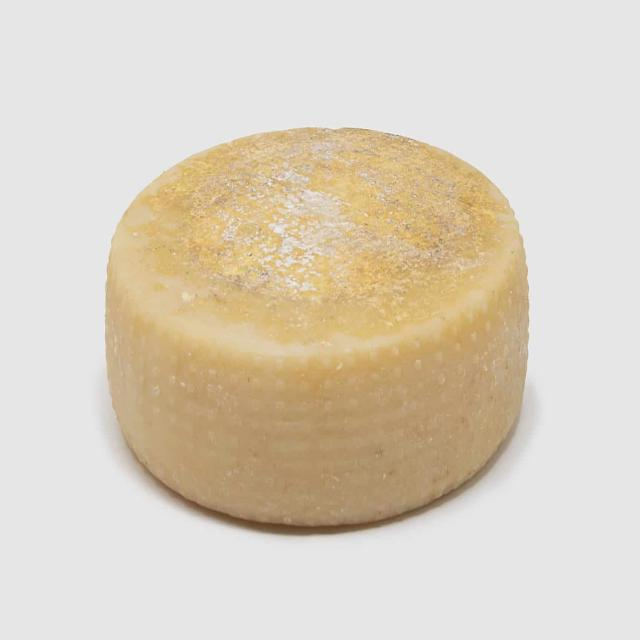Cheese: (97, 125, 531, 537)
